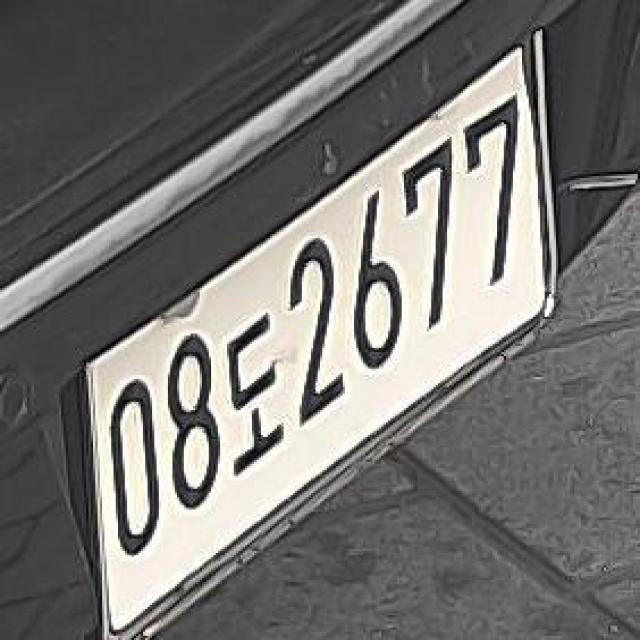illegal_plate: (71, 36, 558, 620)
